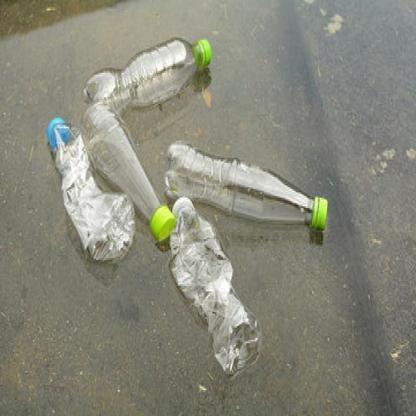plastic bottle: (168, 200, 262, 369), (165, 141, 329, 233), (46, 118, 136, 260), (80, 107, 174, 240), (81, 37, 213, 104)
